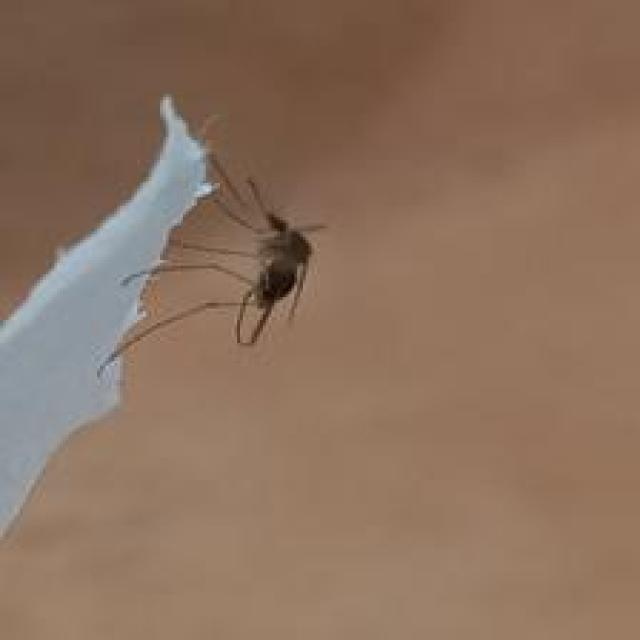Culex: (96, 142, 327, 378)
